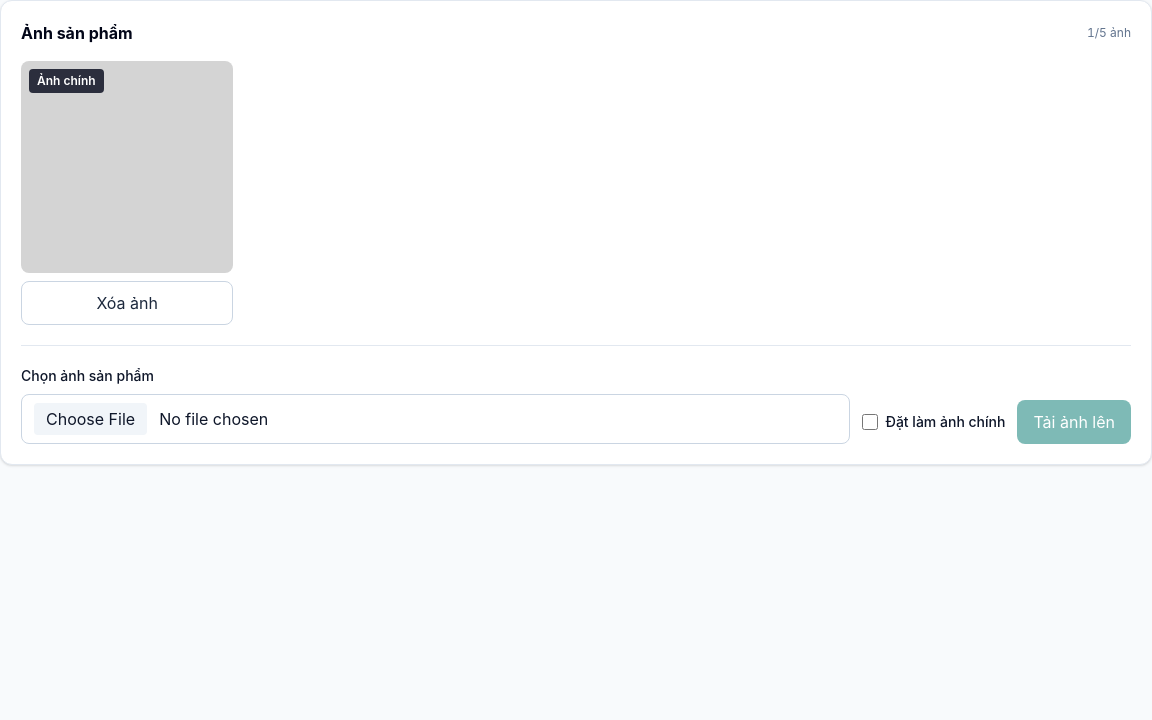
Scenario: ProductImageManager › shows retryable cleanup warning after metadata-first removal
The image size is (1152, 720).
Click the button with aria-label "Xóa ảnh sản phẩm": {"x": 127, "y": 303} [21, 281, 233, 325]
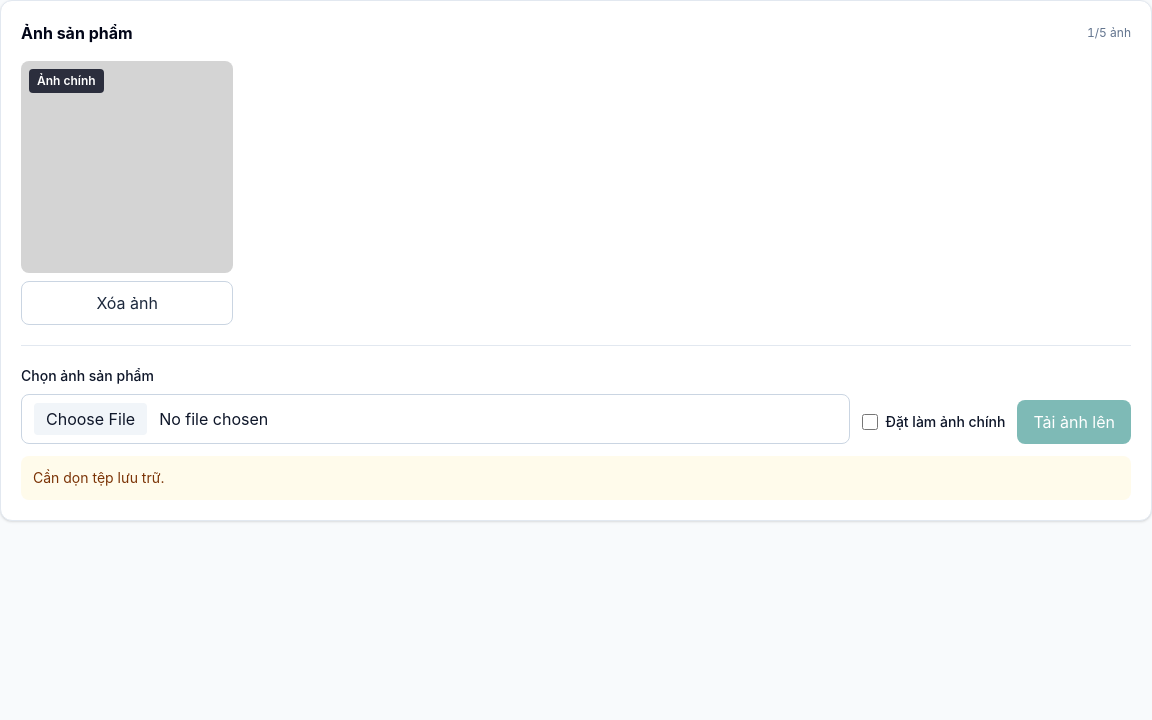
Check: the text "Cần dọn tệp lưu trữ." is shown, box [21, 456, 1131, 500]
